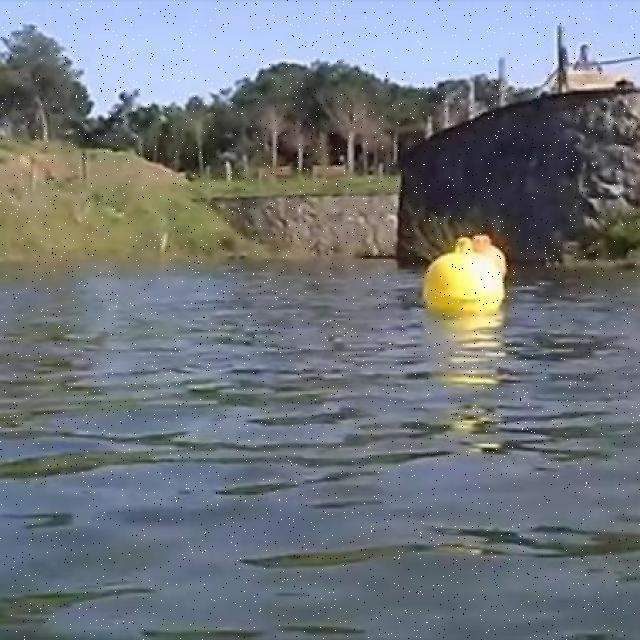buoy: (426, 239, 504, 313), (477, 235, 509, 277)
